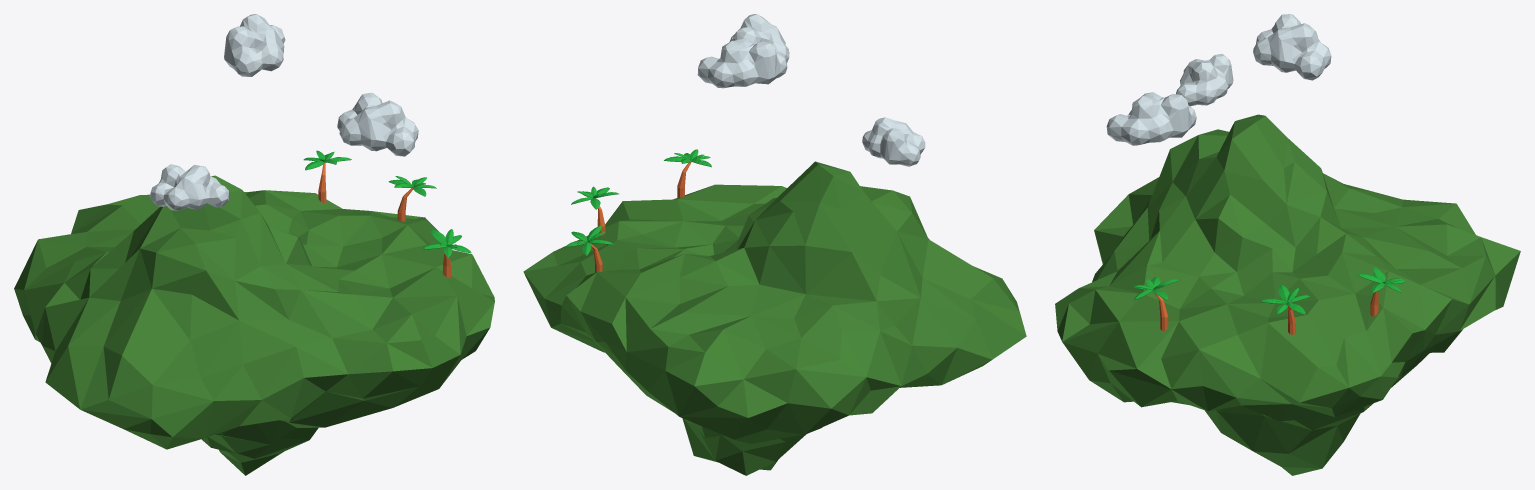
File: low-poly-island.glb
3 views of the same model, side by side, from view 1: azimuth 30°, elevation 25°; view 2: azimuth 150°, elevation 25°; view 3: azimuth 270°, elevation 25° (orthographic). The views are drawn at different scales.
Visible parts, largest first — view 1: island, cloud2, cloud1, cloud3, palm.002, palm, palm.001; view 2: island, cloud1, cloud3, cloud2, palm, palm.002, palm.001; view 3: island, cloud1, cloud2, cloud3, palm.001, palm.002, palm.
Part boxes in pixels (box(x1,y1,x2,y2)): island: box(14, 175, 494, 475); cloud2: box(337, 92, 418, 156); cloud1: box(224, 14, 285, 76); cloud3: box(150, 164, 228, 210); palm.002: box(422, 229, 471, 278); palm: box(303, 150, 351, 203); palm.001: box(388, 176, 436, 221); island: box(523, 161, 1026, 475); cloud1: box(697, 38, 787, 88); cloud3: box(862, 117, 925, 166); cloud2: box(729, 14, 789, 62); palm: box(566, 226, 613, 272); palm.002: box(664, 149, 711, 198); palm.001: box(571, 186, 618, 236); island: box(1055, 114, 1520, 475); cloud1: box(1253, 14, 1331, 80); cloud2: box(1106, 92, 1196, 145); cloud3: box(1176, 54, 1233, 106); palm.001: box(1260, 285, 1310, 334); palm.002: box(1133, 277, 1179, 330); palm: box(1357, 267, 1405, 316).
Size of the model in its own units: 3.59 by 3.51 by 3.31.
